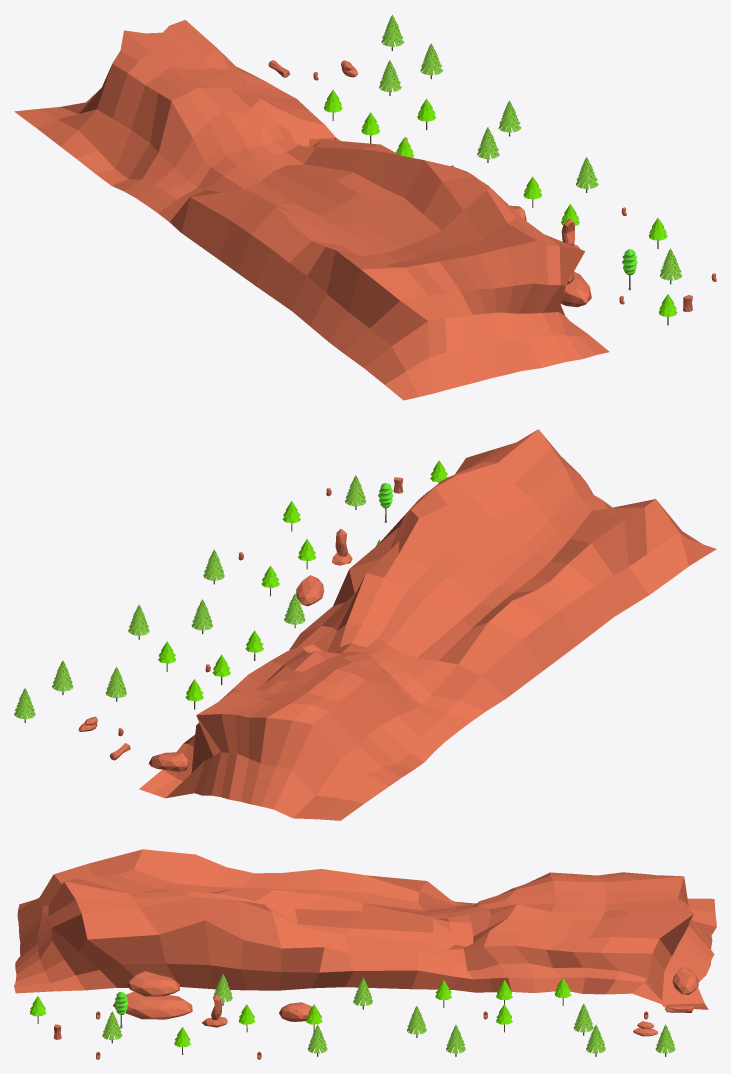
The model's file is no_shadow_coboy01.fbx.
The picture shows the model from 3 angles, top to bottom: view 1: azimuth 30°, elevation 25°; view 2: azimuth 150°, elevation 25°; view 3: azimuth 270°, elevation 25°; orthographic projection. The views are drawn at different scales.
Parts seen in each view (by area): view 1: no_shadow_coboy; view 2: no_shadow_coboy; view 3: no_shadow_coboy.
Part boxes in pixels (x1,y1,x2,y2): no_shadow_coboy: (14,14,716,400); no_shadow_coboy: (14,429,716,820); no_shadow_coboy: (14,849,716,1059).
Size of the model in its own units: 14296 by 4686 by 26436.
